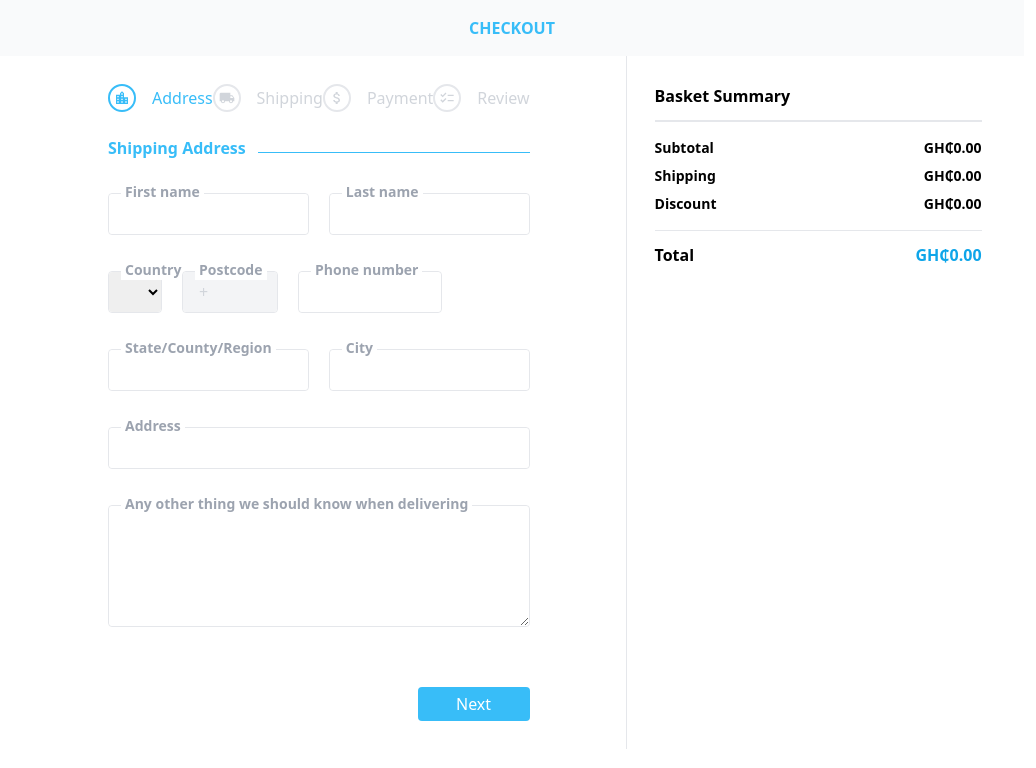
Test: Should refetch if shipping methods on request fail - Integration
The width and height of the screenshot is (1036, 768).
# next section - shipping method
Click the button with test id "chonext". click: (474, 704)
box: top-left (418, 687), bottom-right (530, 721)
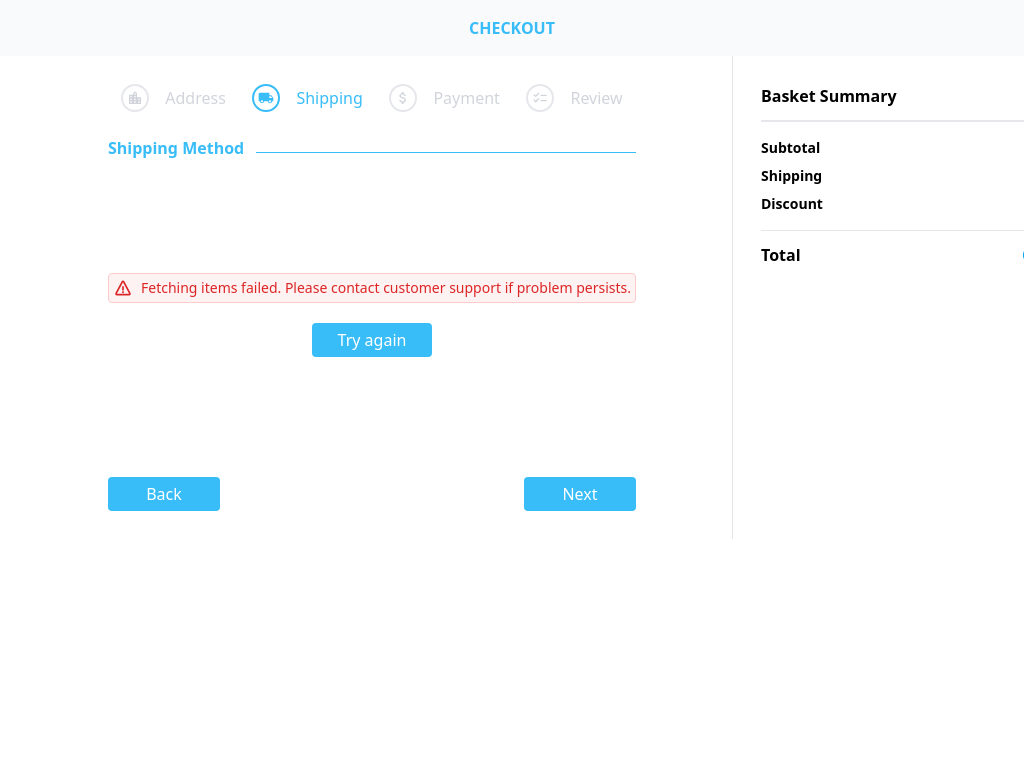
Click the button with test id "failed-retry". click: (372, 340)
box: top-left (312, 323), bottom-right (432, 357)
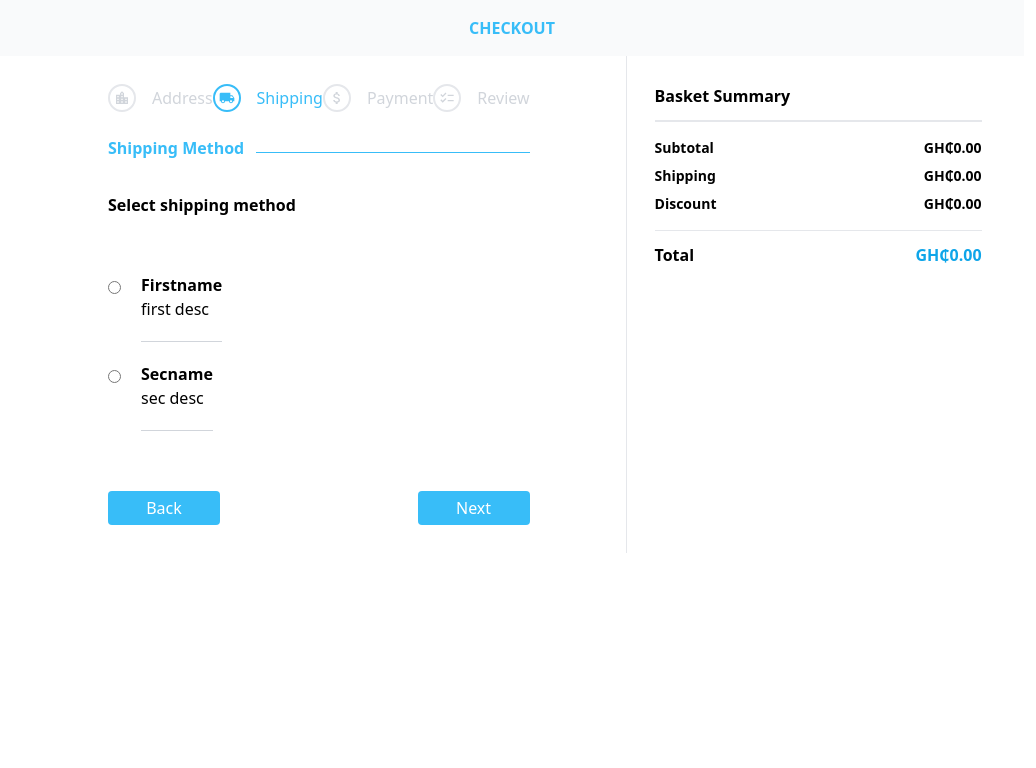
Result: the radio button labelled "Firstname first desc" holds "noshipping" at top-left (108, 281), bottom-right (121, 294)
Result: the number of radio buttons is 2 at top-left (108, 281), bottom-right (121, 294); top-left (108, 370), bottom-right (121, 383)
